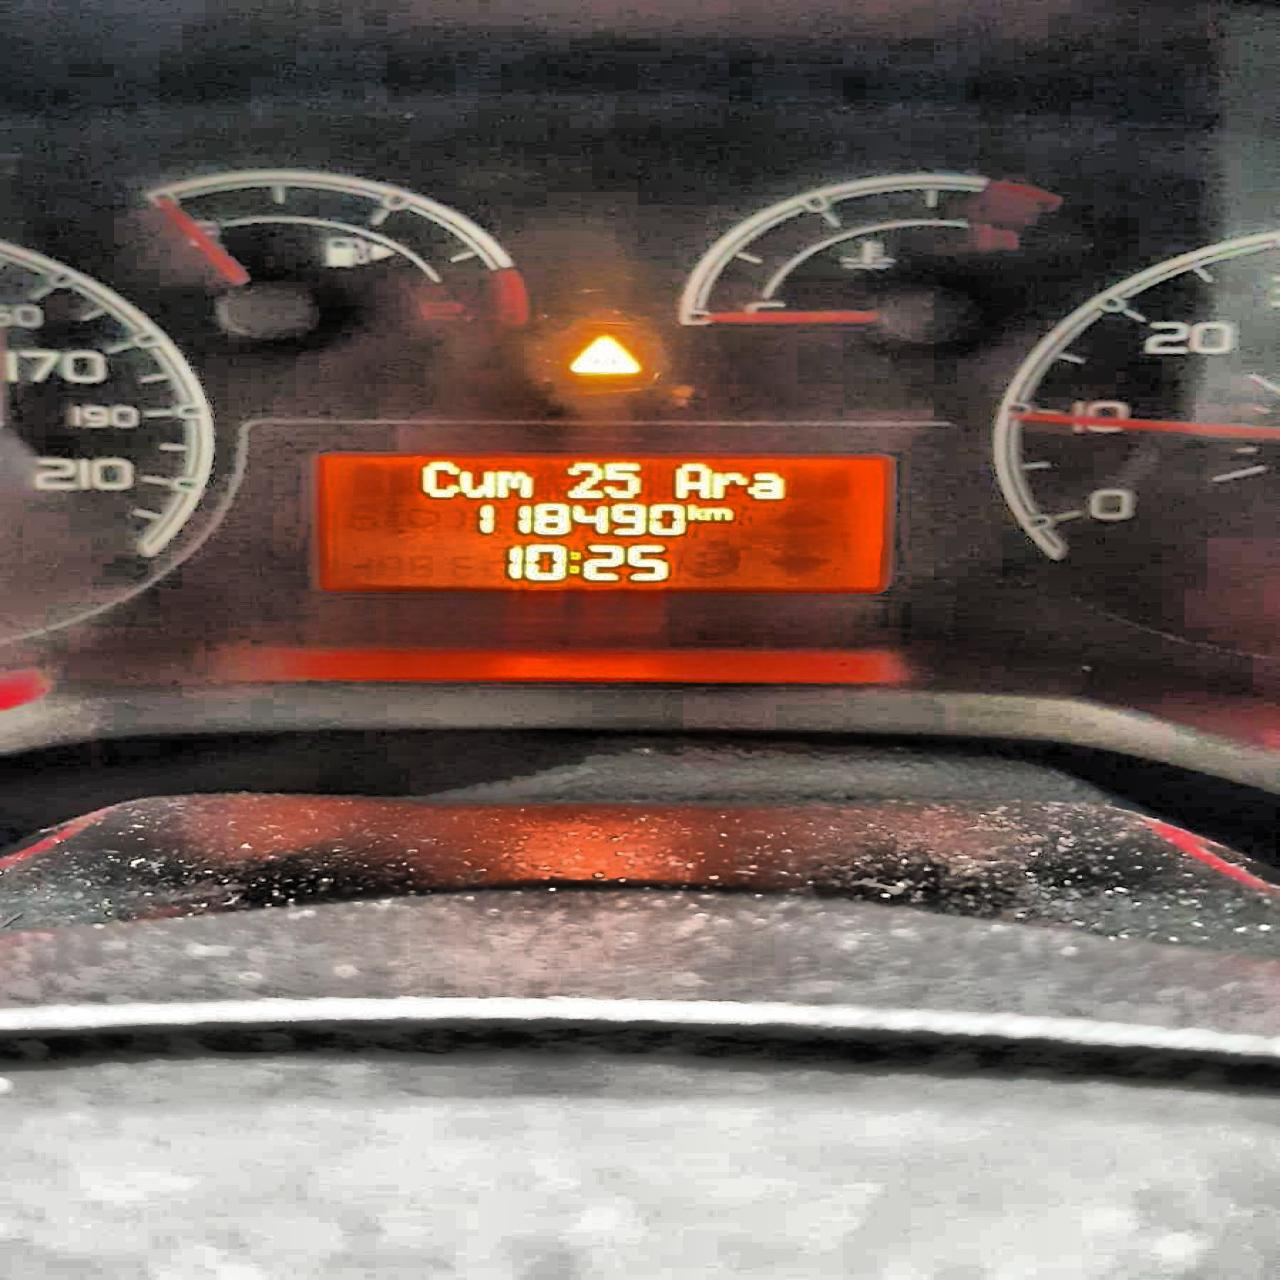0: (523, 542, 565, 583), (648, 502, 685, 536)
1: (504, 542, 527, 581), (474, 503, 497, 535), (511, 504, 530, 535)
2: (563, 459, 604, 501), (584, 544, 625, 584)
4: (568, 502, 611, 536)
5: (624, 543, 667, 583), (602, 458, 641, 501)
8: (530, 502, 570, 536)
9: (611, 501, 646, 537)
X: (669, 462, 715, 499), (418, 458, 459, 498), (493, 468, 536, 498), (458, 468, 496, 498), (750, 470, 788, 499), (710, 470, 747, 499), (706, 505, 736, 520), (683, 502, 708, 520), (568, 549, 583, 578)
odometer: (312, 448, 896, 597)
